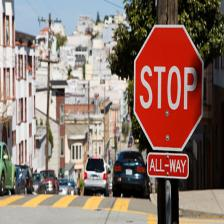Stop-sign: (129, 14, 211, 186)
